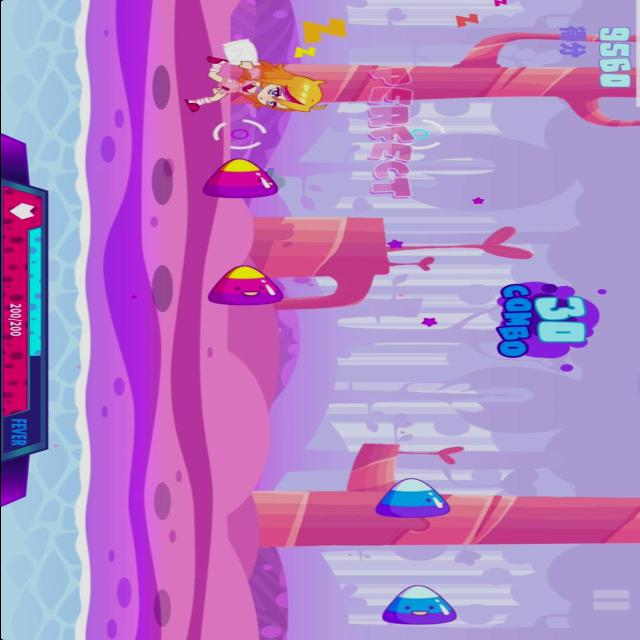jian: (196, 155, 282, 203), (202, 263, 290, 309), (375, 582, 462, 628), (369, 475, 454, 522)
